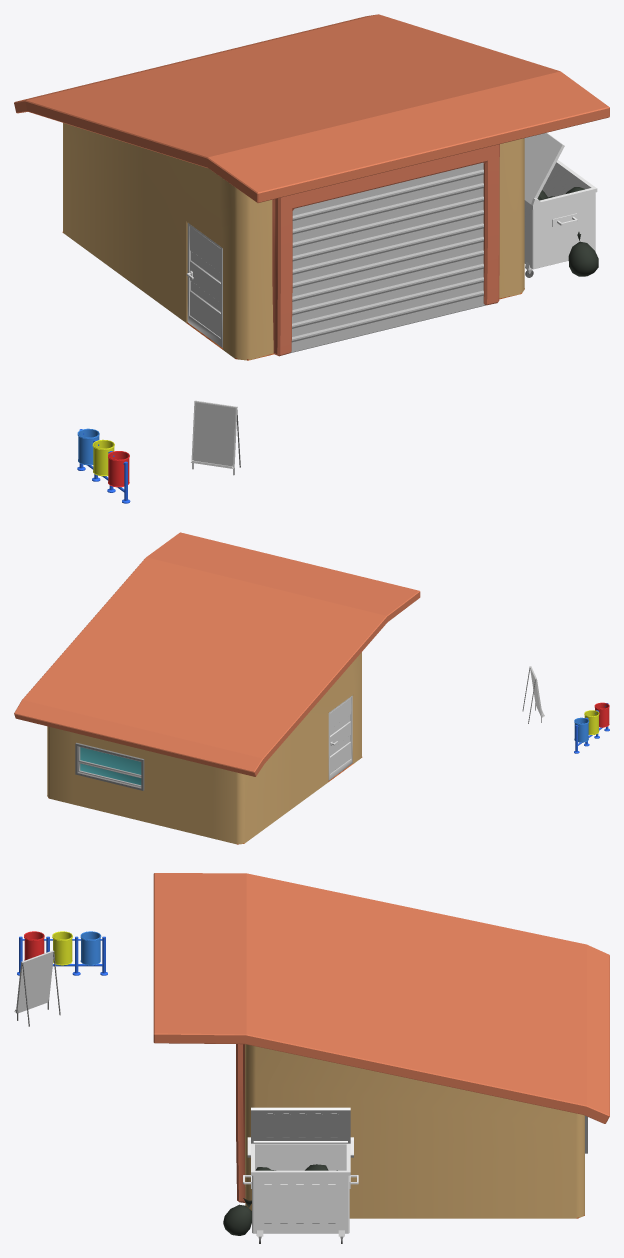
The model's file is Garage.fbx.
The picture shows the model from 3 angles, top to bottom: view 1: azimuth 30°, elevation 25°; view 2: azimuth 150°, elevation 25°; view 3: azimuth 270°, elevation 25°; orthographic projection. The views are drawn at different scales.
Parts seen in each view (by area): view 1: Cube.011, Cube.010, Cube.037, Cube.046, Cube.041, Cube.026, Cylinder.021; view 2: Cube.011, Cube.010, Cube.041, Cube.044, Cube.043, Cube.045; view 3: Cube.011, Cube.010, Cube.046, Cube.026, Cylinder.026, Cylinder.019, Cylinder.020, Cylinder.021.
Boxes of the visible parts, bbox=[...] form: Cube.011: bbox=[14, 14, 609, 202]; Cube.010: bbox=[63, 123, 524, 360]; Cube.037: bbox=[290, 162, 485, 353]; Cube.046: bbox=[524, 132, 598, 277]; Cube.041: bbox=[186, 223, 222, 347]; Cube.026: bbox=[191, 400, 237, 468]; Cylinder.021: bbox=[108, 451, 129, 487]; Cube.011: bbox=[14, 532, 420, 776]; Cube.010: bbox=[47, 652, 361, 844]; Cube.041: bbox=[328, 695, 352, 780]; Cube.044: bbox=[78, 746, 141, 776]; Cube.043: bbox=[75, 742, 144, 790]; Cube.045: bbox=[78, 762, 141, 786]; Cube.011: bbox=[153, 873, 609, 1123]; Cube.010: bbox=[236, 1044, 584, 1218]; Cube.046: bbox=[223, 1107, 358, 1243]; Cube.026: bbox=[14, 950, 54, 1013]; Cylinder.026: bbox=[17, 936, 107, 975]; Cylinder.019: bbox=[80, 931, 101, 965]; Cylinder.020: bbox=[52, 931, 72, 965]; Cylinder.021: bbox=[24, 931, 44, 960].
Size of the model in its own units: 8246 by 2783 by 7510.
